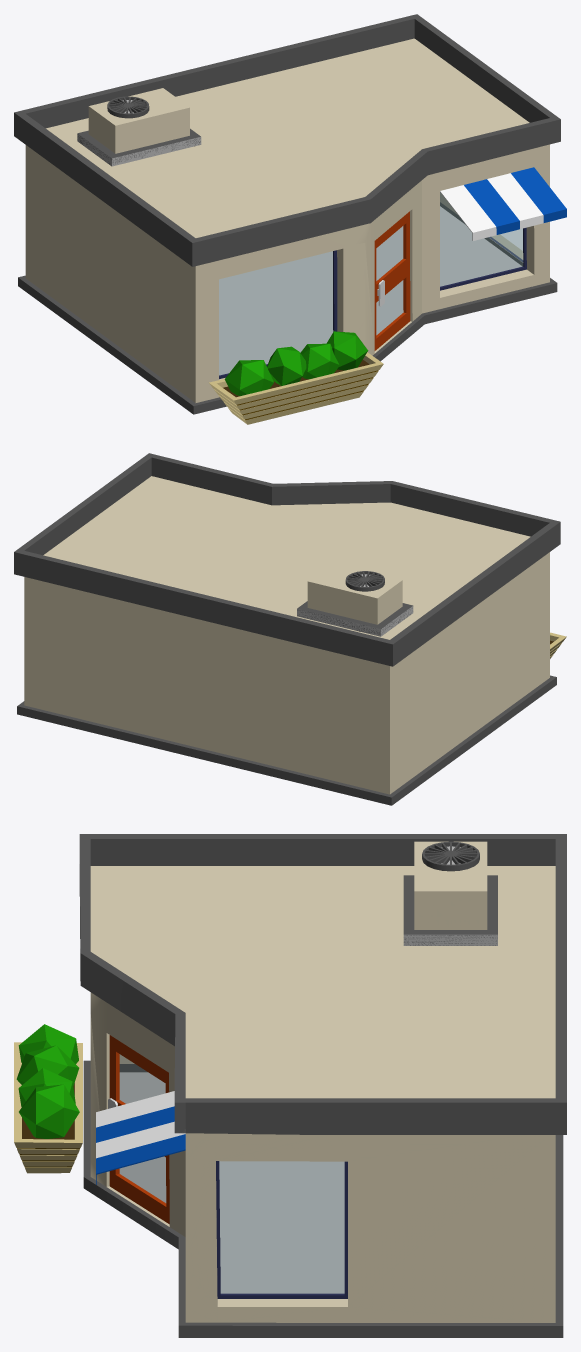
3 renders of one model, top to bottom at view 1: azimuth 30°, elevation 25°; view 2: azimuth 150°, elevation 25°; view 3: azimuth 270°, elevation 25°, orthographic. The views are drawn at different scales.
Parts seen in each view (by area): view 1: pCube1, pCube5, pCube3, pPlatonic3, pPlatonic4, pPlatonic1, pPlatonic2; view 2: pCube1, pCube5; view 3: pCube1, pCube5, pCube3, pPlatonic1, pPlatonic4, pPlatonic3, pPlatonic2.
Part boxes in pixels (bbox=[...]): pCube1: bbox=[14, 14, 566, 414]; pCube5: bbox=[77, 88, 201, 166]; pCube3: bbox=[209, 352, 383, 424]; pPlatonic3: bbox=[224, 360, 273, 395]; pPlatonic4: bbox=[267, 346, 306, 385]; pPlatonic1: bbox=[326, 331, 368, 370]; pPlatonic2: bbox=[300, 343, 339, 379]; pCube1: bbox=[14, 453, 560, 805]; pCube5: bbox=[297, 563, 413, 636]; pCube1: bbox=[79, 834, 566, 1337]; pCube5: bbox=[403, 841, 497, 945]; pCube3: bbox=[14, 1042, 82, 1173]; pPlatonic1: bbox=[19, 1084, 79, 1138]; pPlatonic4: bbox=[16, 1045, 79, 1085]; pPlatonic3: bbox=[18, 1024, 78, 1063]; pPlatonic2: bbox=[18, 1068, 75, 1106].
Size of the model in its own units: 10.55 by 4.93 by 9.18.
